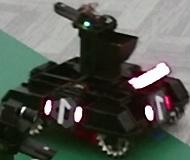armor_1: (44, 99, 83, 123)
back_1: (152, 92, 168, 122)
left_1: (52, 96, 76, 127)
light: (128, 62, 171, 89)
